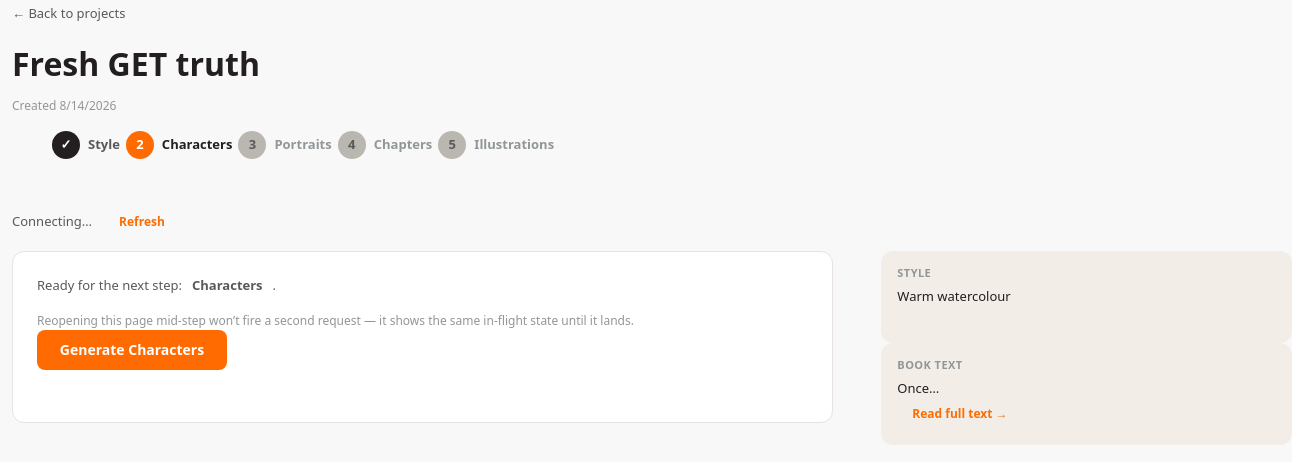
Scenario: a StrictMode GET cannot overwrite a newer GET or accepted run truth
Expected: the heading "Fresh GET truth" is shown, [12,42,260,85]
Click the button "Generate Characters" at (132, 350), box [37,330,227,370]
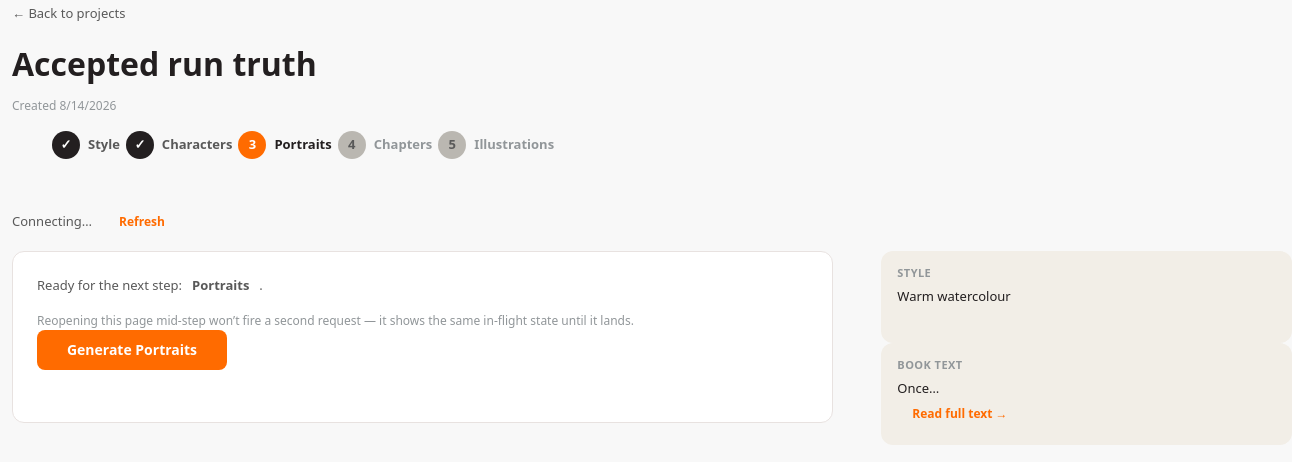
Expected: the heading "Accepted run truth" is shown, [12,42,317,85]
